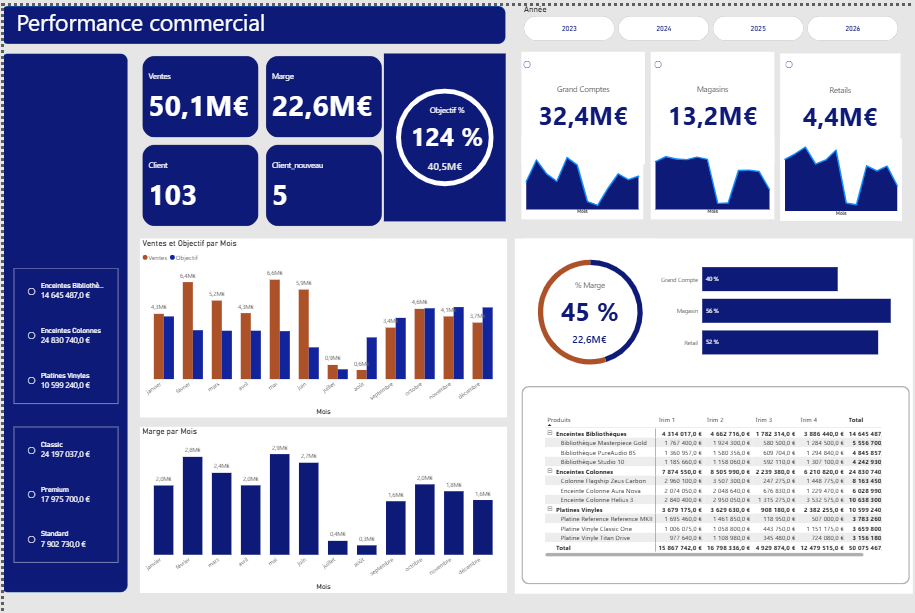

Layout of this report page (visuals, bound fields, positions):
{"tool":"powerbi","page":{"name":"Synthese","canvas":[1920,1280],"ordinal":0},"visuals":[{"type":"shape","box":[1076,490,838,748],"z":0},{"type":"shape","box":[-5.3,99.7,267.5,1135],"z":1000},{"type":"cardVisual","fields":{"Data":["Mesure.Ventes","Mesure.Marge","Mesure.Client","Mesure.Client_nouveau"]},"box":[284.7,98.9,516.7,370],"z":2000},{"type":"advancedSlicerVisual","fields":{"Values":["Produits.Catégorie"]},"box":[20,550,220,286],"z":3000},{"type":"shape","box":[-5.3,-1.1,1063.3,80],"z":4000},{"type":"clusteredColumnChart","fields":{"Category":["Calendrier.Date.Variation.Hiérarchie de dates.Mois"],"Y":["Mesure.Ventes","Calendrier.Objectif"]},"box":[284.7,488.9,773.3,376.7],"z":5000},{"type":"advancedSlicerVisual","fields":{"Values":["Calendrier.Année"]},"box":[1088,-2,800,82],"z":6000},{"type":"columnChart","fields":{"Y":["Mesure.Marge"],"Category":["Calendrier.Date.Variation.Hiérarchie de dates.Mois"]},"box":[284.7,885.6,773.3,350],"z":7000},{"type":"donutChart","fields":{"Y":["Calendrier.Objectif %","Calendrier.Objectif % 1/"]},"box":[801.4,98.9,256.7,353.3],"z":8000},{"type":"cardVisual","fields":{"Data":["Calendrier.Objectif %"]},"box":[807.2,187.2,252.5,145],"z":9000},{"type":"donutChart","fields":{"Y":["Mesure.Marge / vente","Calendrier.Marge / ventes 1/"]},"box":[1098,490,276,310],"z":10000},{"type":"cardVisual","fields":{"Data":["Mesure.Marge / vente"]},"box":[1098,540,275,172.5],"z":11000},{"type":"cardVisual","fields":{"Data":["Calendrier.Objectif"]},"box":[844.7,302.2,167.5,57.5],"z":12000},{"type":"cardVisual","fields":{"Data":["Mesure.Marge"]},"box":[1112,652,245,90],"z":13000},{"type":"cardVisual","fields":{"Data":["Mesure.Ventes"]},"box":[1088,95.6,260,236.7],"z":14000},{"type":"cardVisual","fields":{"Data":["Mesure.Ventes"]},"box":[1634.7,98.9,253.3,233.3],"z":15000},{"type":"cardVisual","fields":{"Data":["Mesure.Ventes"]},"box":[1361.4,95.6,260,236.7],"z":16000},{"type":"areaChart","fields":{"Y":["Mesure.Ventes"],"Category":["Calendrier.Mois"]},"box":[1088,275.6,256.7,173.3],"z":17000},{"type":"areaChart","fields":{"Y":["Mesure.Ventes"],"Category":["Calendrier.Mois"]},"box":[1361.4,275.6,260,173.3],"z":18000},{"type":"areaChart","fields":{"Y":["Mesure.Ventes"],"Category":["Calendrier.Mois"]},"box":[1634.7,278,256.7,173.3],"z":19000},{"type":"advancedSlicerVisual","fields":{"Values":["Produits.Gamme"]},"box":[20,885,220,286],"z":20000},{"type":"advancedSlicerVisual","fields":{"Values":["Categorie client.Catégorie_1"]},"box":[1076.7,78.2,830,86],"z":21000},{"type":"textbox","box":[20.7,-1.8,716,80],"z":22000},{"type":"shape","box":[1088,800,818,418],"z":23000},{"type":"clusteredBarChart","fields":{"Category":["Categorie client.Catégorie_1"],"Y":["Mesure.Marge / vente"]},"box":[1374,512,500,258],"z":24000},{"type":"pivotTable","fields":{"Rows":["Produits.Catégorie","Produits.Nom"],"Values":["Mesure.Ventes"],"Columns":["Calendrier.Date.Variation.Hiérarchie de dates.Trimestre"]},"box":[1135.7,854.3,718.6,310],"z":25000}]}

Visuals, with their boxes in screenshot pixels (x1, y1, x2, y2), scaled from the page's 1920x1280 canvas onto the 915x613 screenshot:
shape: 513, 235, 912, 593
shape: 0, 48, 125, 591
cardVisual - Mesure.Ventes x Mesure.Marge: 136, 47, 382, 225
advancedSlicerVisual - Produits.Catégorie: 10, 263, 114, 400
shape: 0, 0, 504, 38
clusteredColumnChart - Calendrier.Date.Variation.Hiérarchie de dates.Mois x Mesure.Ventes: 136, 234, 504, 415
advancedSlicerVisual - Calendrier.Année: 518, 0, 900, 38
columnChart - Mesure.Marge x Calendrier.Date.Variation.Hiérarchie de dates.Mois: 136, 424, 504, 592
donutChart - Calendrier.Objectif % x Calendrier.Objectif % 1/: 382, 47, 504, 217
cardVisual - Calendrier.Objectif %: 385, 90, 505, 159
donutChart - Mesure.Marge / vente x Calendrier.Marge / ventes 1/: 523, 235, 655, 383
cardVisual - Mesure.Marge / vente: 523, 259, 654, 341
cardVisual - Calendrier.Objectif: 403, 145, 482, 172
cardVisual - Mesure.Marge: 530, 312, 647, 355
cardVisual - Mesure.Ventes: 518, 46, 642, 159
cardVisual - Mesure.Ventes: 779, 47, 900, 159
cardVisual - Mesure.Ventes: 649, 46, 773, 159
areaChart - Mesure.Ventes x Calendrier.Mois: 518, 132, 641, 215
areaChart - Mesure.Ventes x Calendrier.Mois: 649, 132, 773, 215
areaChart - Mesure.Ventes x Calendrier.Mois: 779, 133, 901, 216
advancedSlicerVisual - Produits.Gamme: 10, 424, 114, 561
advancedSlicerVisual - Categorie client.Catégorie_1: 513, 37, 909, 79
textbox: 10, 0, 351, 37
shape: 518, 383, 908, 583
clusteredBarChart - Categorie client.Catégorie_1 x Mesure.Marge / vente: 655, 245, 893, 369
pivotTable - Produits.Catégorie x Produits.Nom: 541, 409, 884, 558
